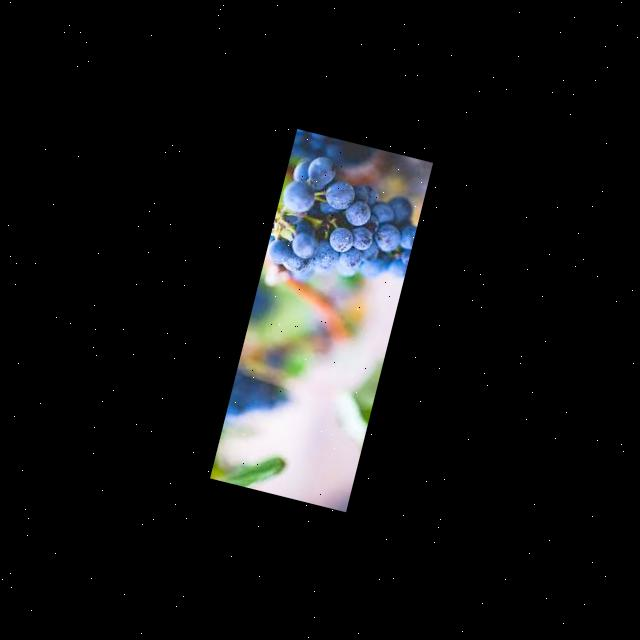grape: (260, 149, 426, 303)
